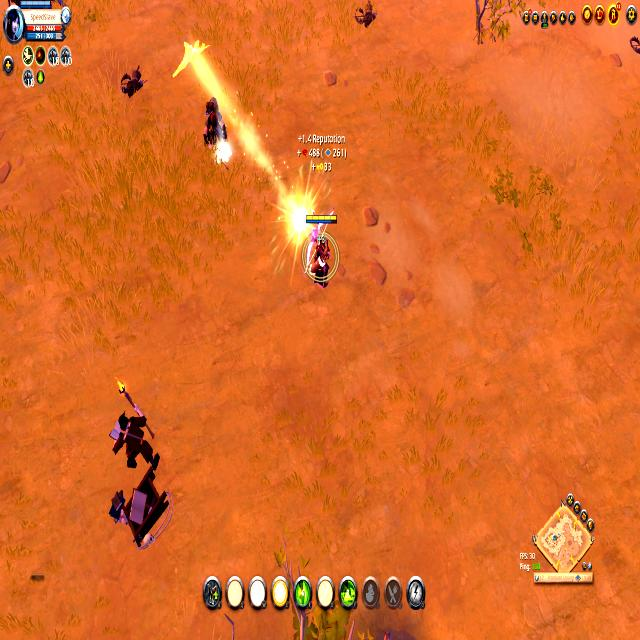ore: (108, 378, 161, 478), (198, 96, 227, 146)
red: (304, 211, 338, 284)
stone: (214, 142, 231, 166)
